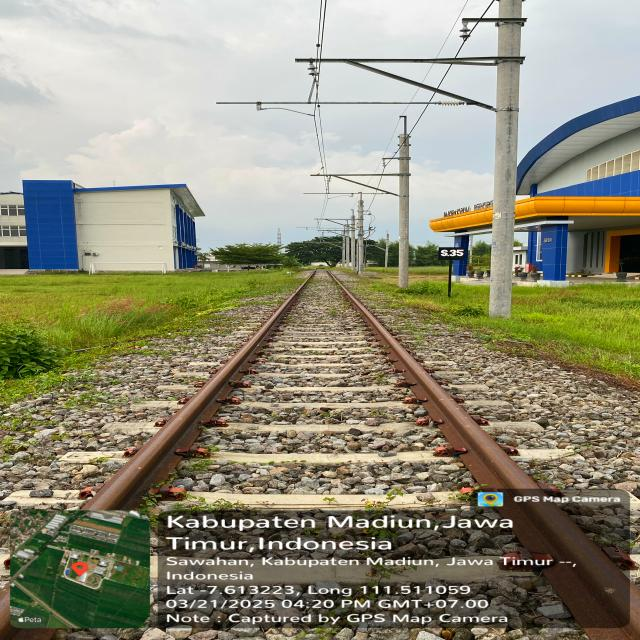rail-detection: (335, 279, 640, 640), (85, 281, 307, 510)
